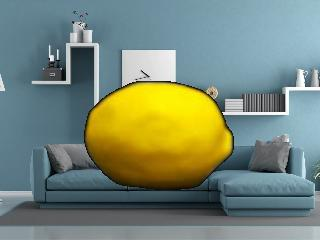lemon: (86, 82, 233, 189)
